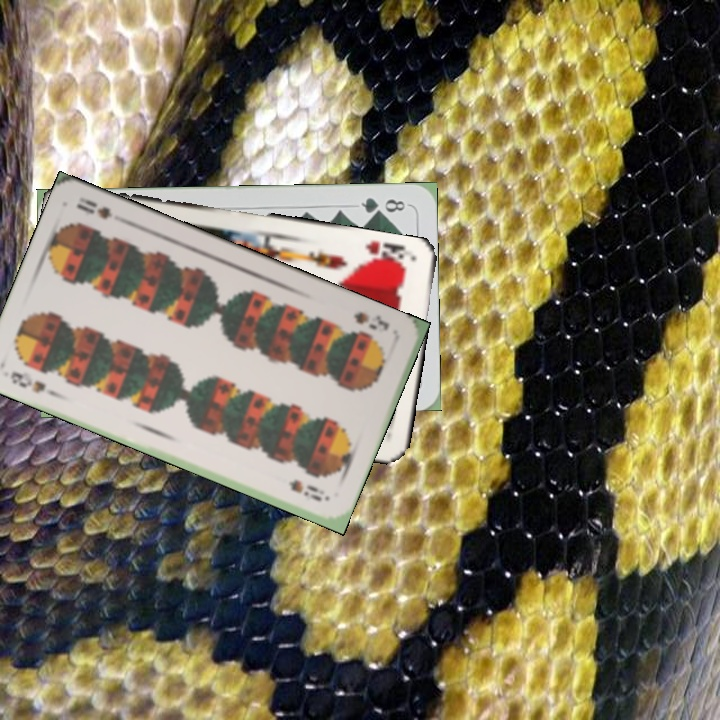G8: (357, 193, 411, 217)
HK: (359, 237, 409, 270)
S8: (6, 367, 59, 399), (349, 307, 392, 333)
